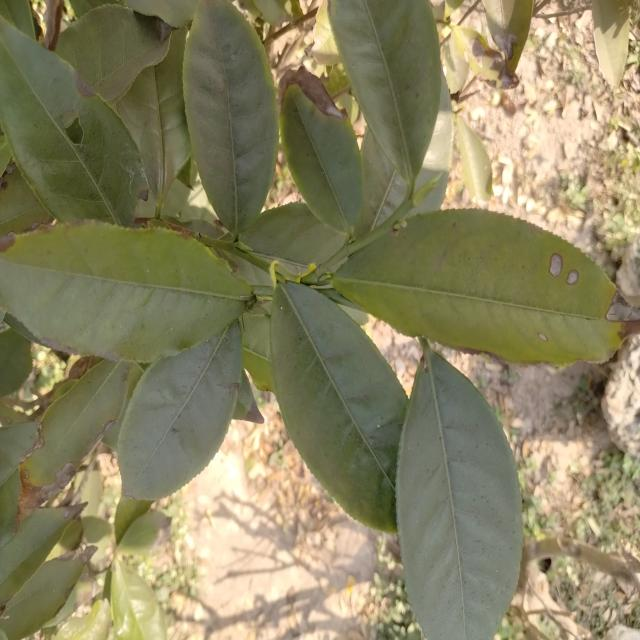Leaf: (331, 209, 624, 364), (396, 350, 522, 640), (0, 222, 251, 362), (270, 281, 408, 531), (0, 17, 146, 226), (183, 0, 278, 238), (118, 321, 244, 500), (329, 0, 441, 186), (16, 360, 129, 523), (116, 28, 191, 204), (280, 85, 363, 235), (56, 4, 172, 102), (0, 504, 84, 612), (0, 556, 87, 640), (411, 75, 453, 215), (354, 128, 407, 237), (0, 422, 38, 546), (111, 560, 166, 640), (452, 26, 519, 89), (483, 0, 533, 74), (592, 0, 629, 88), (456, 114, 492, 204), (118, 510, 171, 554), (53, 600, 111, 640), (0, 329, 33, 397), (114, 497, 153, 544)
